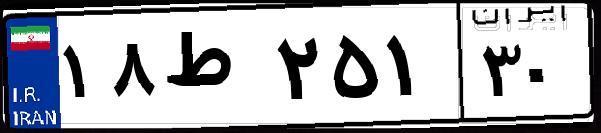0: (525, 38, 570, 115)
1: (385, 28, 445, 110), (57, 26, 110, 100)
2: (270, 28, 330, 110)
3: (475, 38, 525, 113)
5: (330, 28, 385, 110)
8: (110, 28, 158, 98)
ط: (158, 20, 270, 120)
